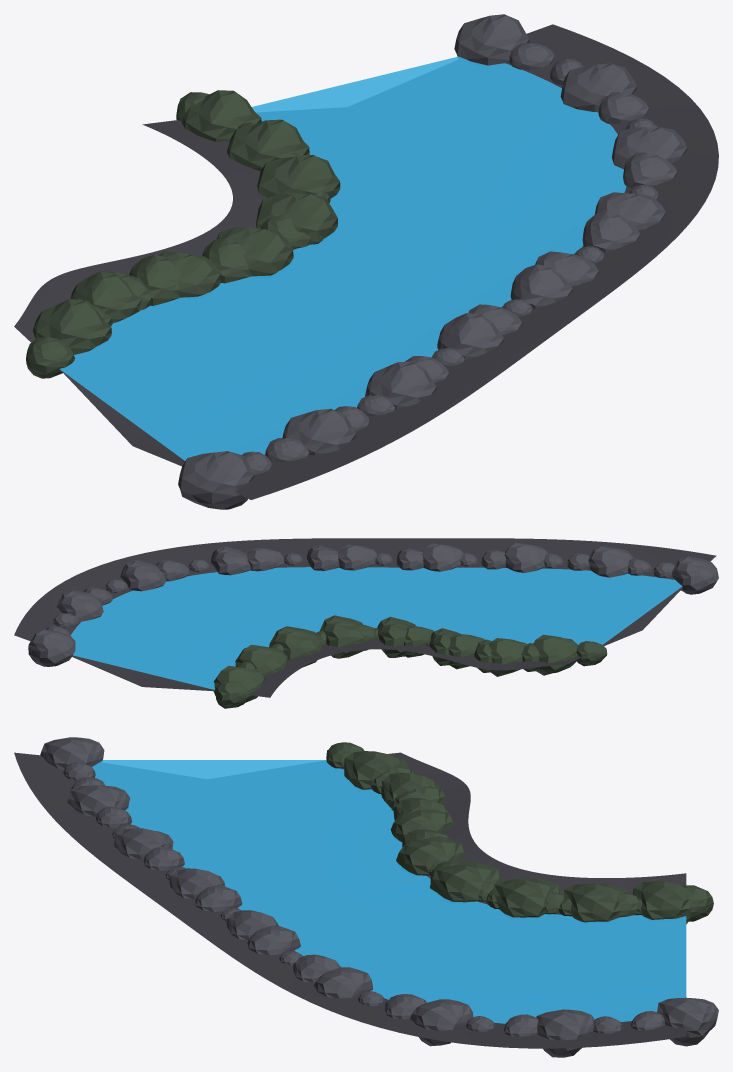
Rendered from stream_bend_90_01.glb.
The picture shows the model from 3 angles, top to bottom: view 1: azimuth 30°, elevation 25°; view 2: azimuth 150°, elevation 25°; view 3: azimuth 270°, elevation 25°; orthographic projection. The views are drawn at different scales.
Visible parts, largest first — view 1: Stream_Organic_Meander_Bend_90; view 2: Stream_Organic_Meander_Bend_90; view 3: Stream_Organic_Meander_Bend_90.
Boxes of the visible parts, x1=… form: Stream_Organic_Meander_Bend_90: x1=14, y1=14, x2=718, y2=509; Stream_Organic_Meander_Bend_90: x1=14, y1=538, x2=718, y2=708; Stream_Organic_Meander_Bend_90: x1=14, y1=737, x2=718, y2=1057.
Bounding box in the file's own units: 7.97 × 0.5998 × 7.66.
